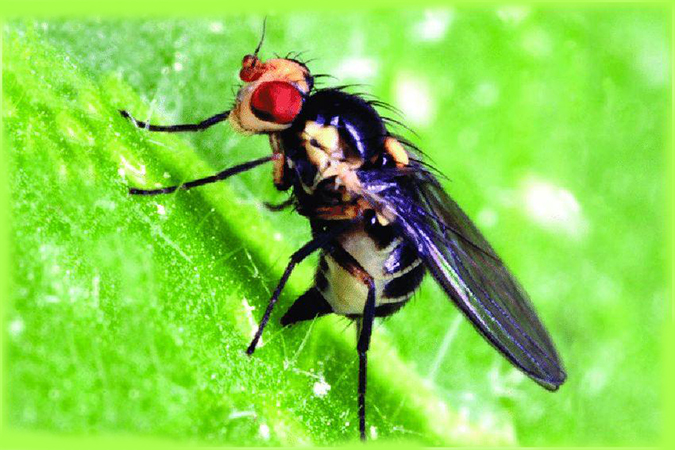Trifoli: (113, 29, 569, 408)
